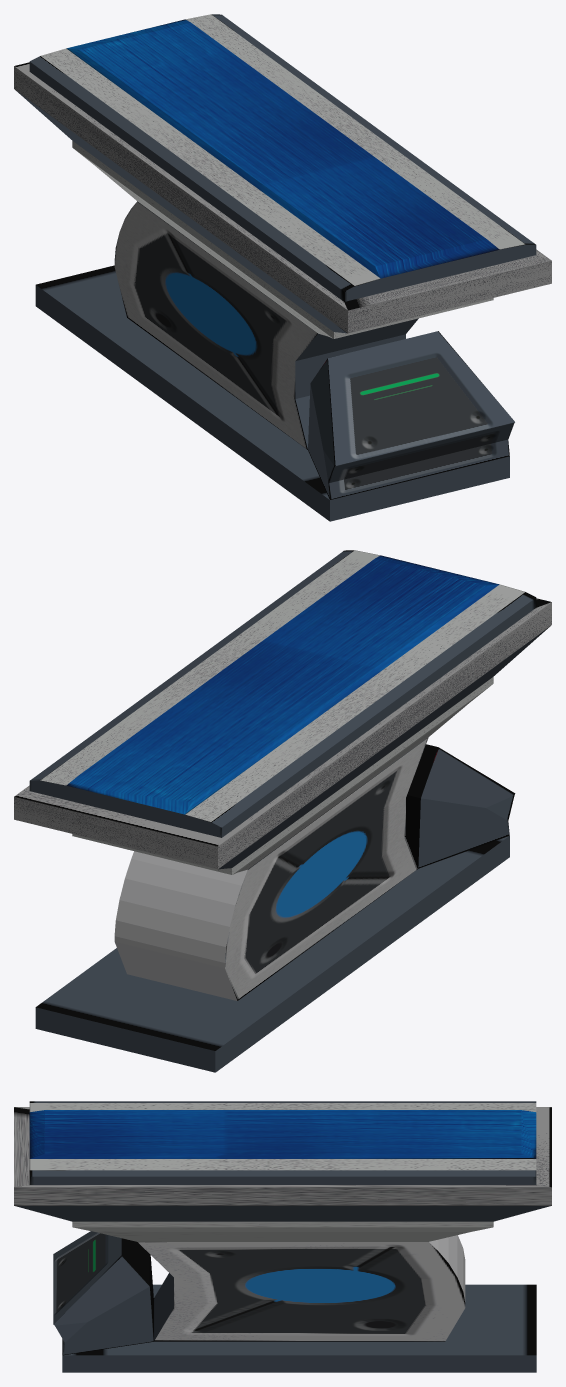
File: Exam Table .glb
3 renders of one model, top to bottom at view 1: azimuth 30°, elevation 25°; view 2: azimuth 150°, elevation 25°; view 3: azimuth 270°, elevation 25°, orthographic. The views are drawn at different scales.
Parts seen in each view (by area): view 1: Exam table; view 2: Exam table; view 3: Exam table.
Part boxes in pixels (box(x1,y1,x2,y2)): Exam table: box(14, 14, 551, 521); Exam table: box(14, 550, 551, 1072); Exam table: box(14, 1101, 551, 1372).
Size of the model in its own units: 2.97 by 3.55 by 8.42.
Materials: 1 (1 with a texture image).
